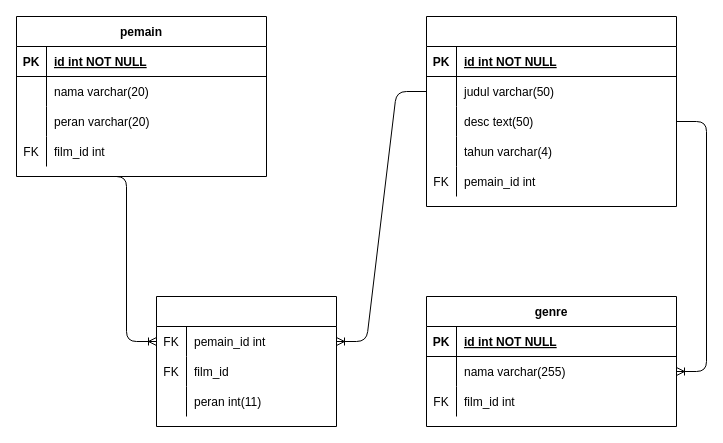
Image size: 723x443. Some labels were removed from this diagram. The box of each missing label's shape, as (x1, y1, x2, y2) in pixels:
film: (426, 16, 676, 206)
peran_utama_pembantu: (156, 296, 336, 426)
